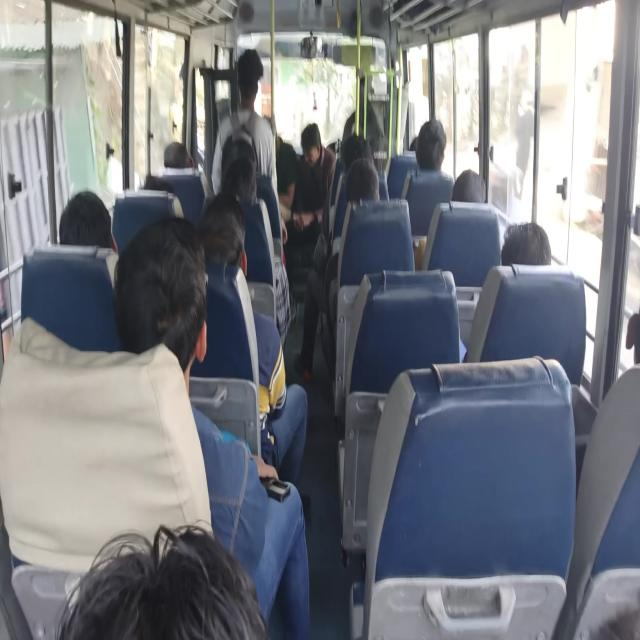person: (79, 497, 250, 640), (134, 238, 228, 359), (72, 197, 130, 260), (261, 124, 303, 209), (506, 227, 563, 275), (204, 192, 246, 256), (144, 171, 186, 221), (226, 146, 269, 192), (448, 164, 483, 210), (615, 293, 640, 354), (164, 143, 200, 184), (235, 57, 270, 98), (420, 111, 441, 177), (343, 134, 374, 178), (306, 130, 332, 172), (352, 166, 378, 198), (402, 128, 415, 154)
